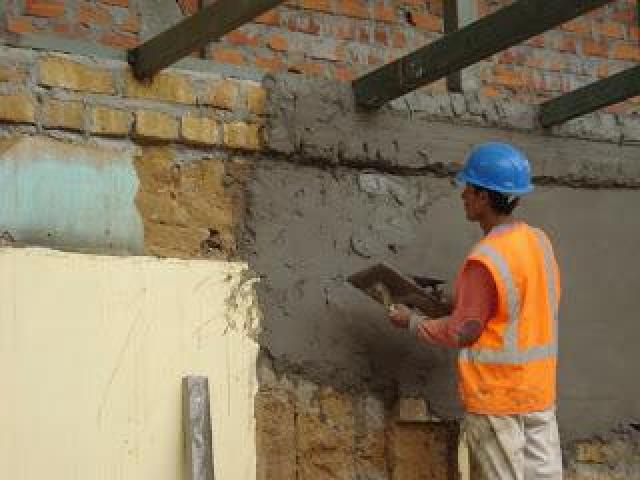casco: (453, 139, 536, 198)
